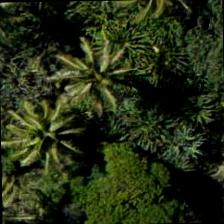Kelapa_Sawit: (48, 34, 140, 126), (3, 90, 94, 182)
